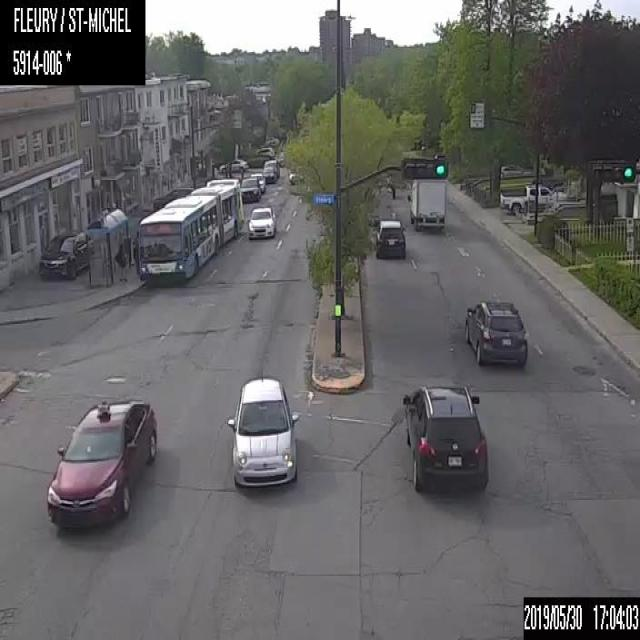bus: (134, 176, 245, 289)
pedestrian: (114, 240, 128, 280)
vehicle: (44, 396, 158, 535), (399, 378, 489, 491), (225, 372, 298, 489), (463, 296, 528, 367), (39, 229, 90, 281), (406, 177, 446, 231), (498, 180, 557, 214), (372, 214, 405, 258), (246, 204, 275, 238), (238, 176, 260, 202), (262, 158, 279, 184), (220, 157, 247, 170), (500, 163, 523, 175)
